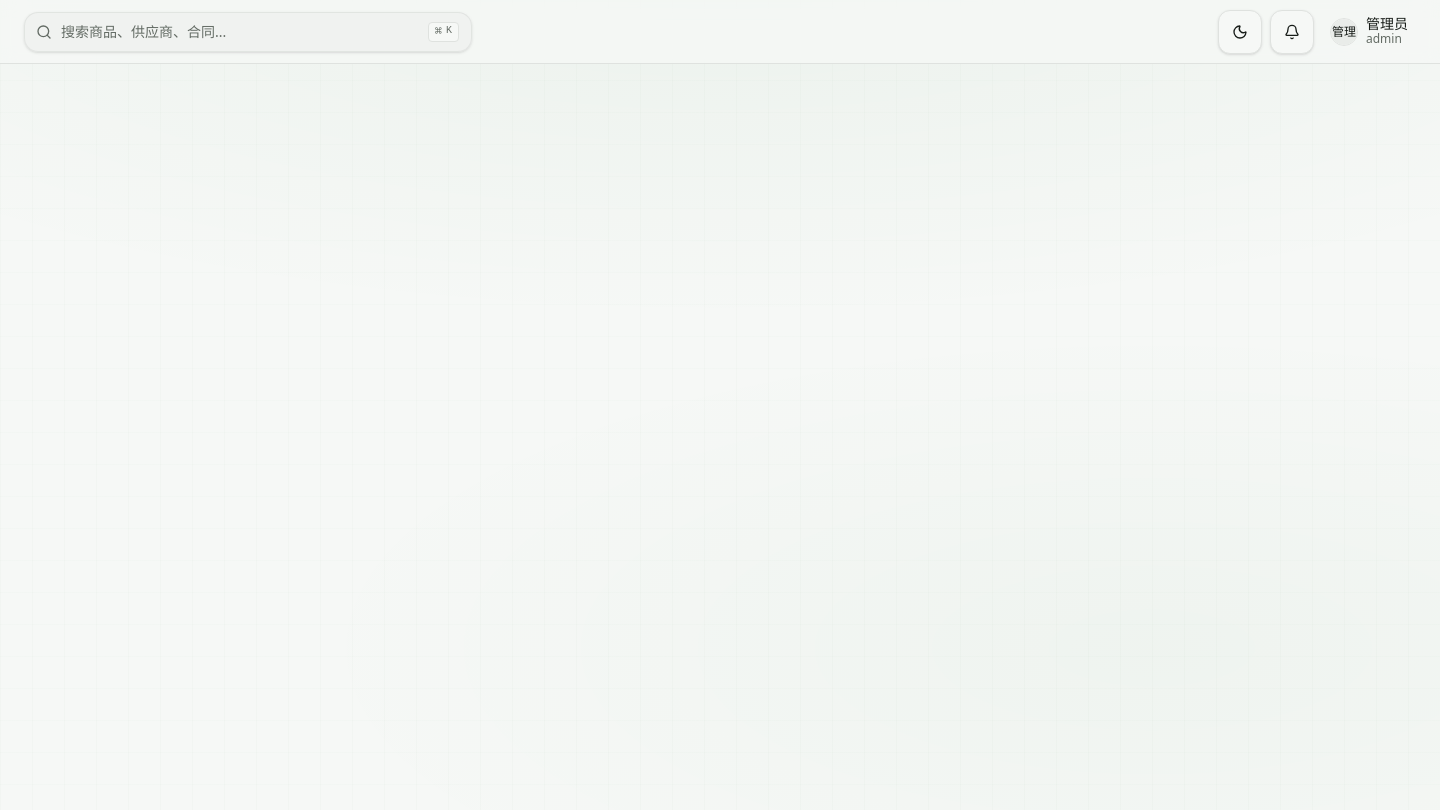
Test: Header › 点击个人设置后打开用户弹窗，而不是跳转系统配置
Click the button with aria-label "用户菜单" at (1369, 32), box top-left (1322, 10), bottom-right (1416, 54)
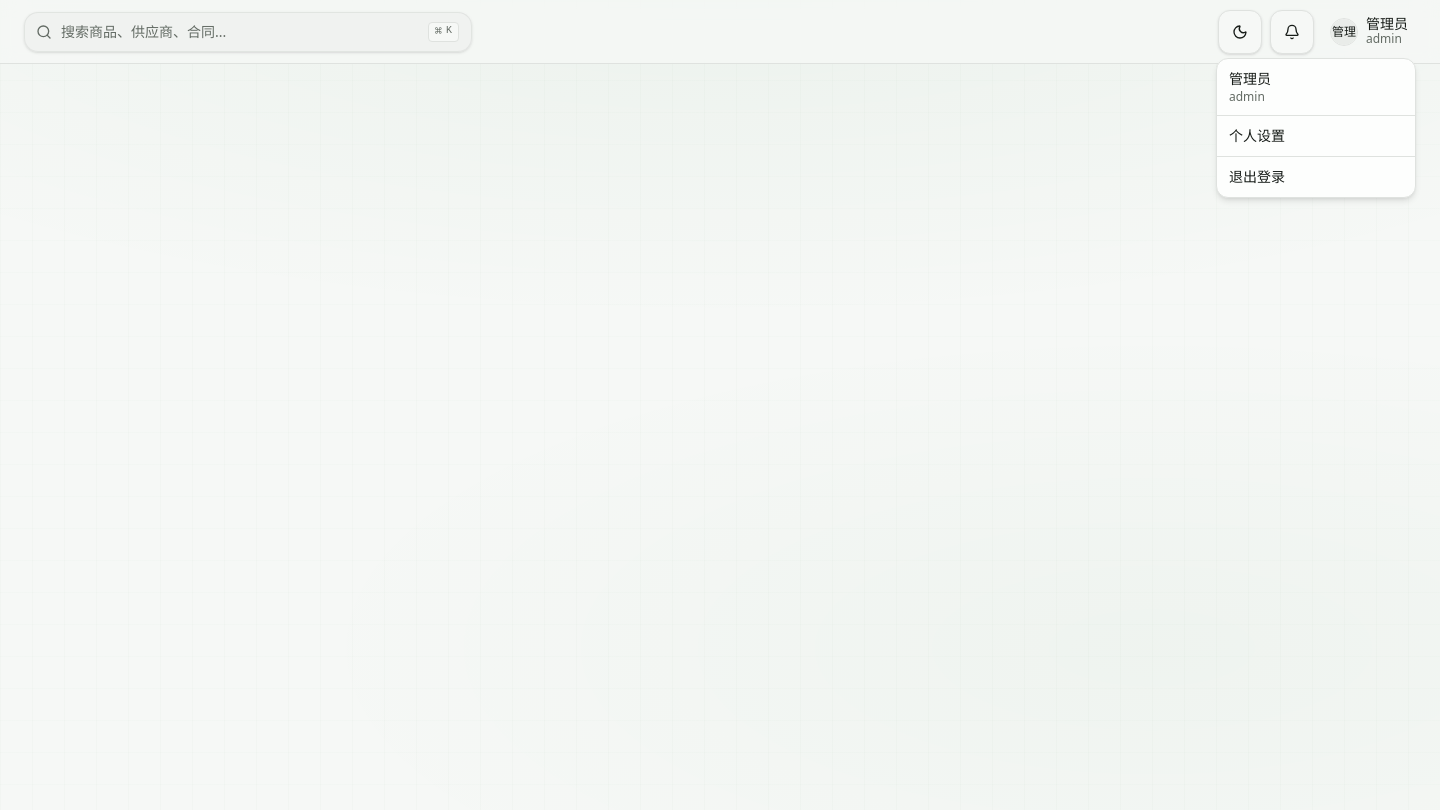
Click the menu item "个人设置" at (1257, 136), box top-left (1229, 126), bottom-right (1285, 145)
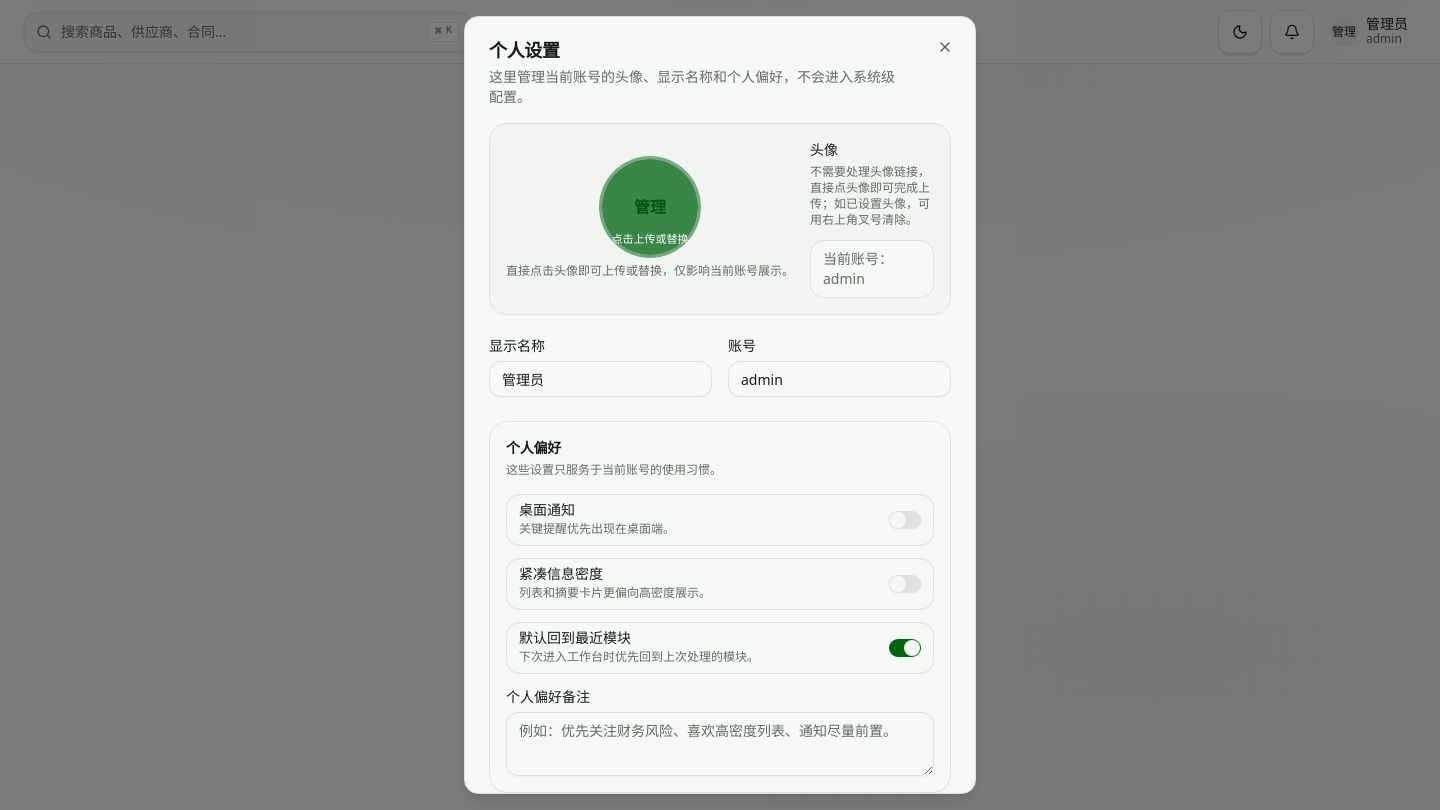
Expected: the dialog "个人设置" is shown, top-left (464, 16), bottom-right (976, 794)
